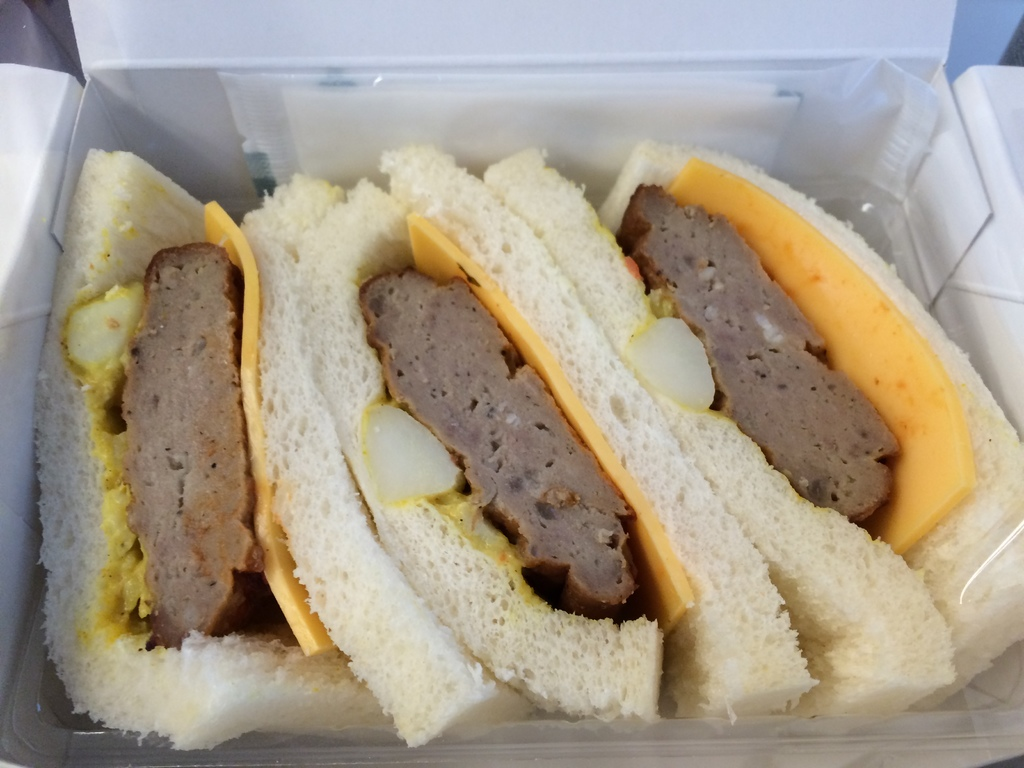sandwich: (36, 131, 1023, 746)
